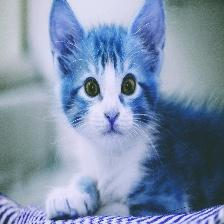kedo: (50, 0, 224, 217)
